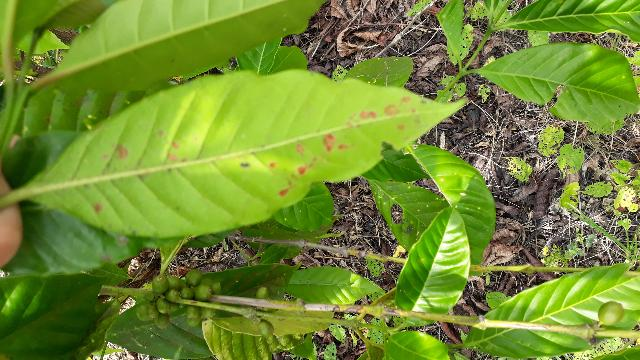red_spider_mite: (19, 68, 477, 239)
